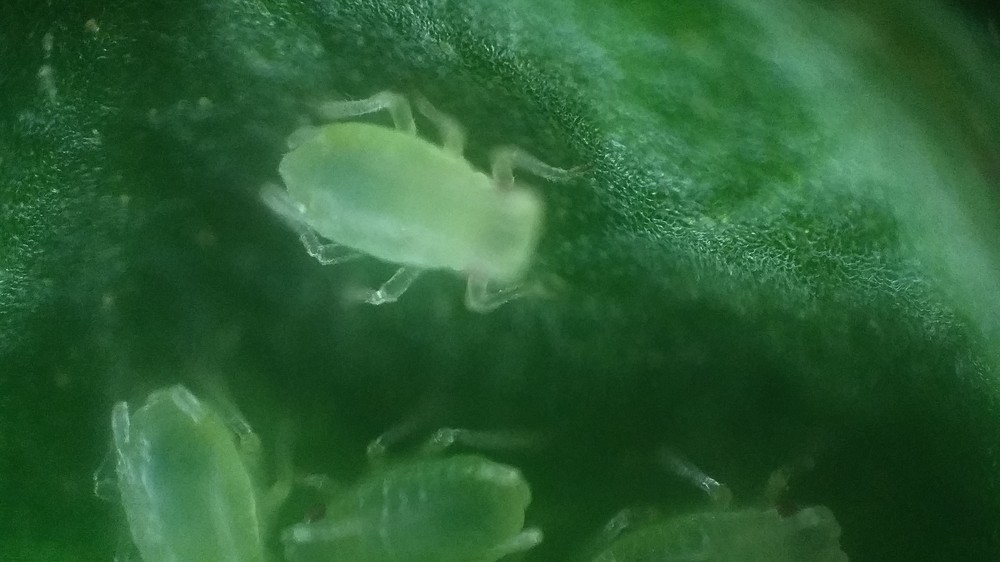Pulgon: (260, 84, 629, 335), (272, 411, 581, 562), (83, 365, 304, 562), (569, 436, 865, 562)
